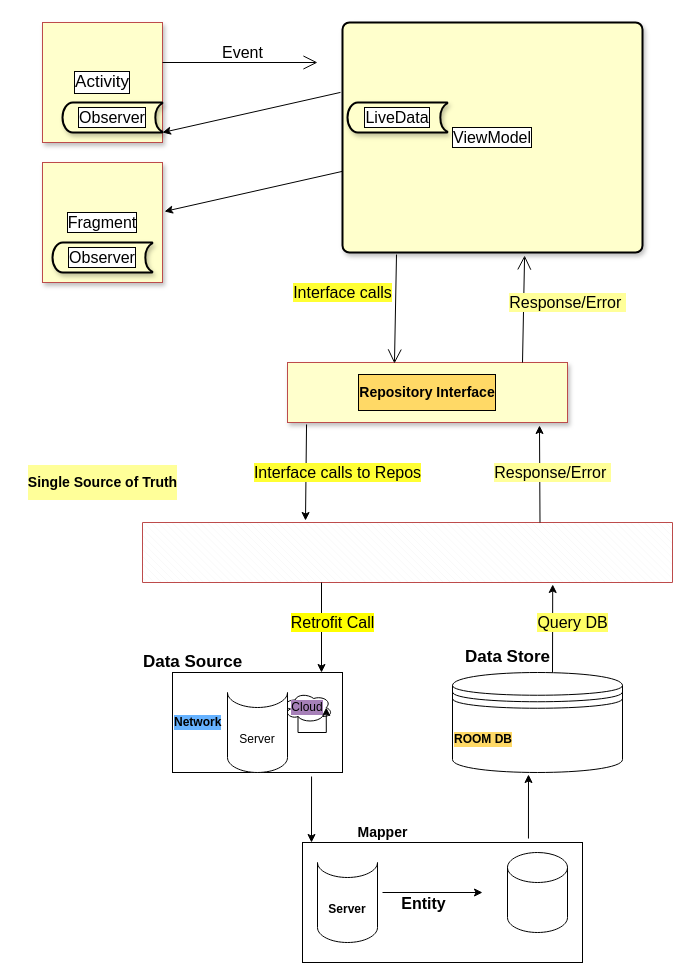
This 690x980 diagram has some shape labels left out. The shapes that lost their labels are listed below. From the top down, each one's centre as x and y in pixels, then its label:
At [407,552]: "Repository".
At [537,892]: "DB".
